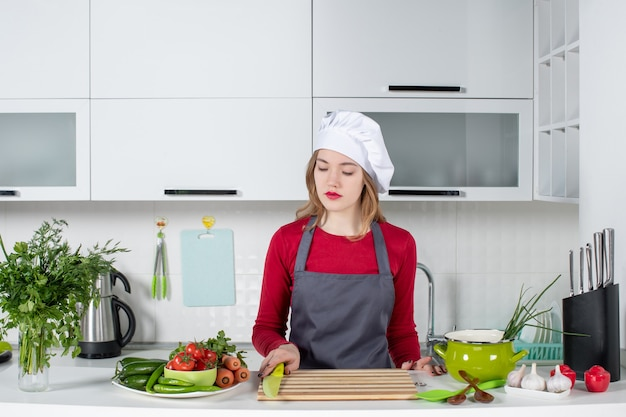knife: (263, 363, 285, 399)
